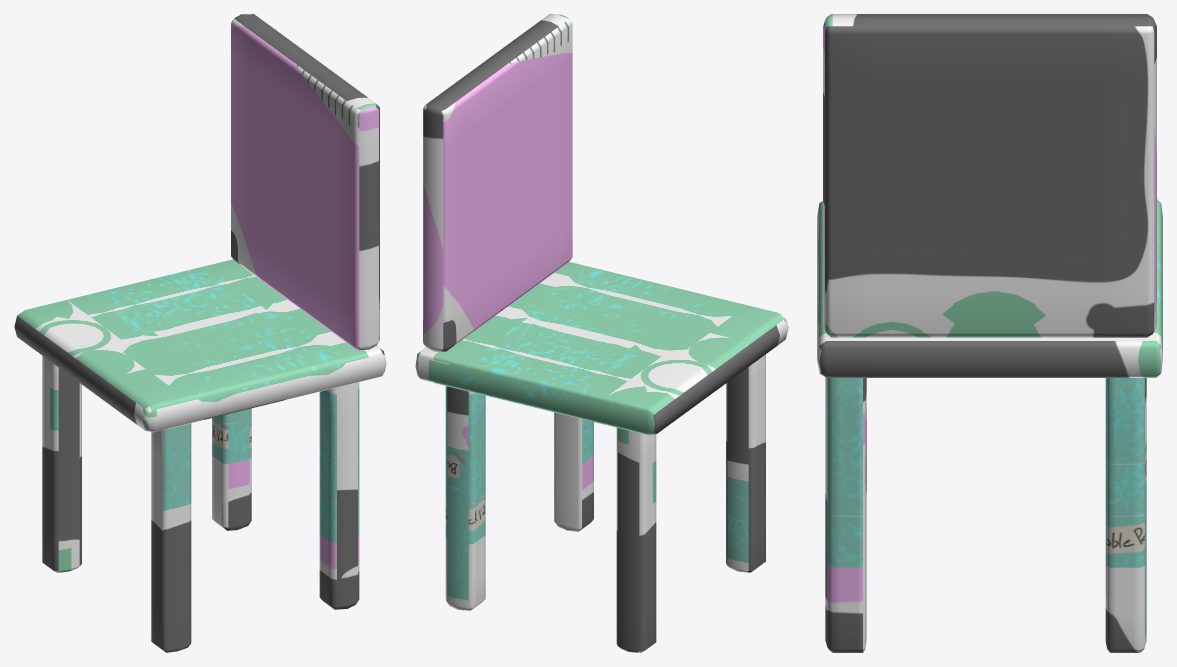
The model's file is chair.obj.
3 renders of one model, left to right at view 1: azimuth 30°, elevation 25°; view 2: azimuth 150°, elevation 25°; view 3: azimuth 270°, elevation 25°, orthographic. The views are drawn at different scales.
Parts seen in each view (by area): view 1: pCube7; view 2: pCube7; view 3: pCube7.
Part boxes in pixels (<box>): pCube7: <box>14,14,386,652</box>; pCube7: <box>415,14,788,652</box>; pCube7: <box>817,14,1162,652</box>.
Size of the model in its own units: 2.51 by 4.94 by 2.41.
